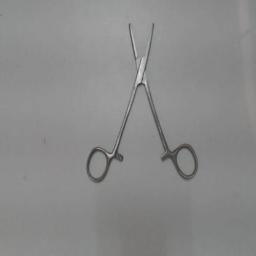Mayo Needle Holder: (82, 10, 202, 186)
